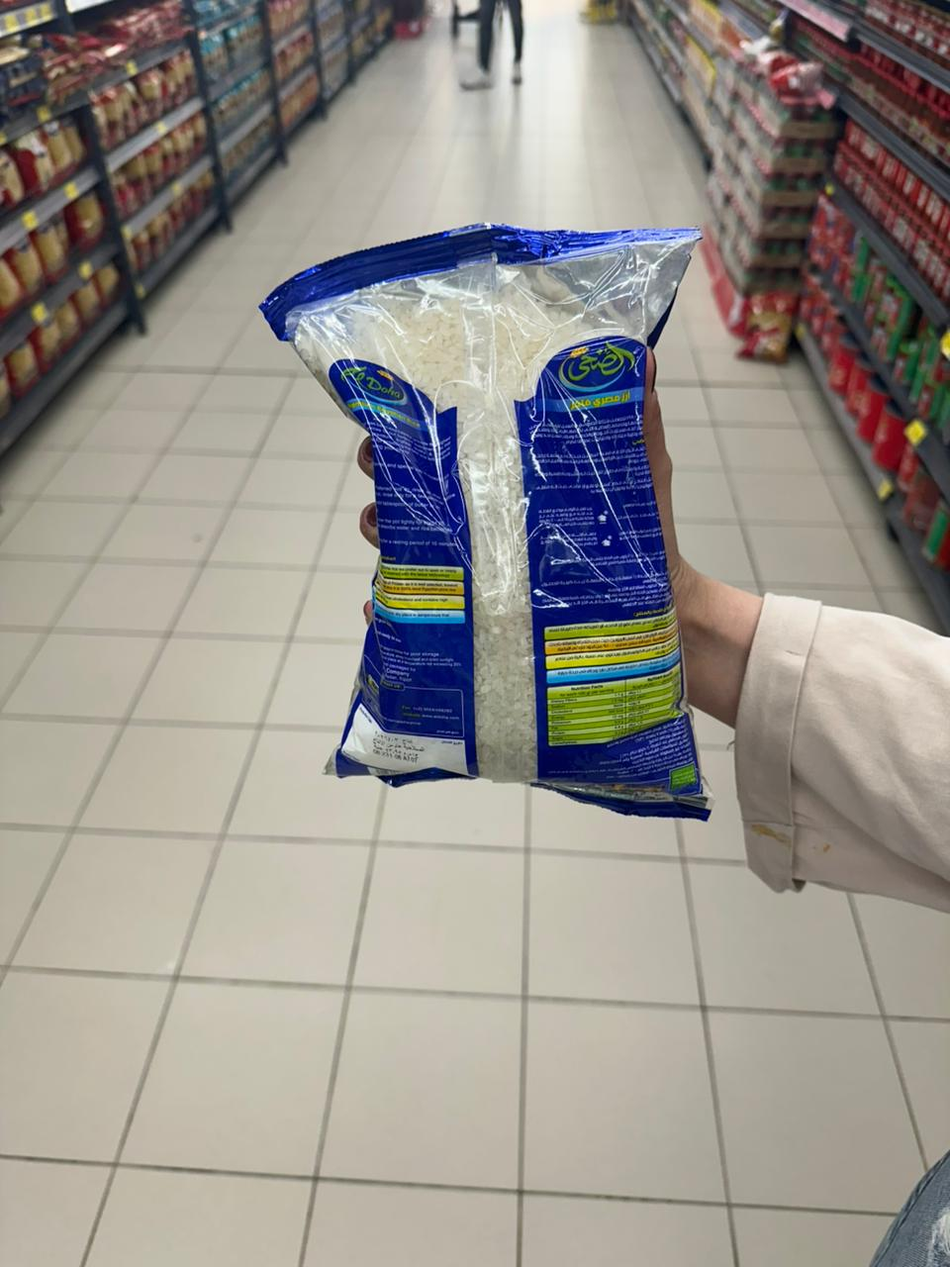rice: (273, 274, 684, 811)
